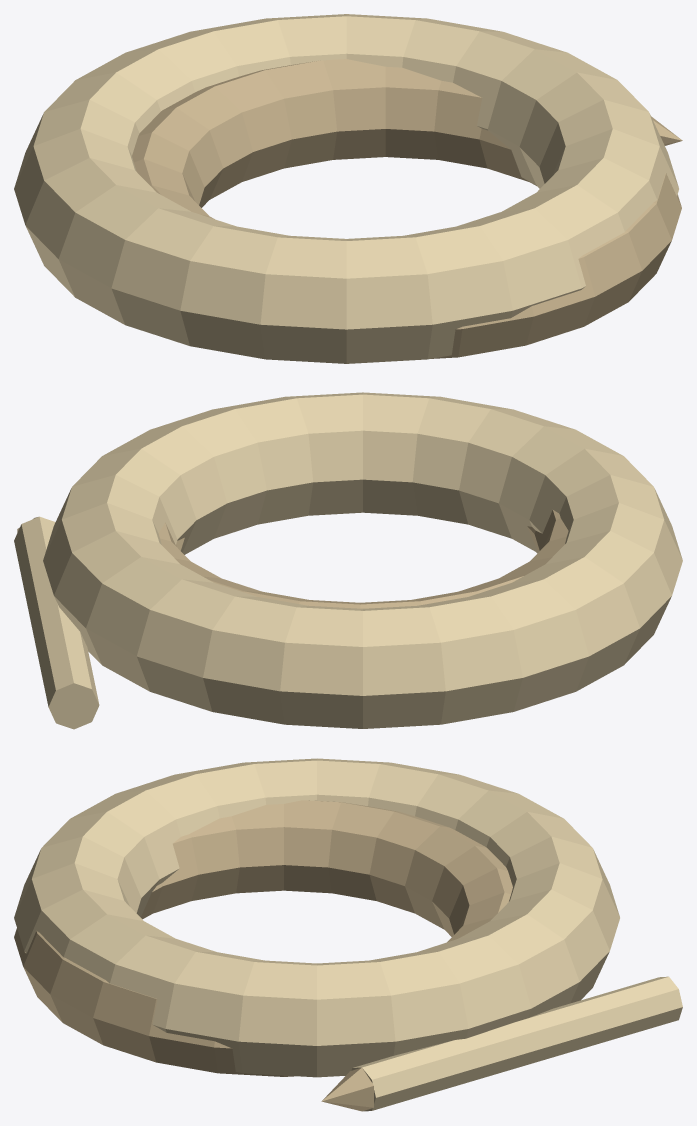
The model's file is 16-Crafting_cuerda_enrollada.glb.
The picture shows the model from 3 angles, top to bottom: view 1: azimuth 30°, elevation 25°; view 2: azimuth 150°, elevation 25°; view 3: azimuth 270°, elevation 25°; orthographic projection. The views are drawn at different scales.
Parts seen in each view (by area): view 1: SM_Cuerda_M_Cuerda_Claro, SM_Cuerda_M_Cuerda_Oscuro; view 2: SM_Cuerda_M_Cuerda_Claro, SM_Cuerda_M_Cuerda_Oscuro; view 3: SM_Cuerda_M_Cuerda_Claro, SM_Cuerda_M_Cuerda_Oscuro.
Boxes of the visible parts, x1,y1,x2,y2 form: SM_Cuerda_M_Cuerda_Claro: [14, 14, 678, 363]; SM_Cuerda_M_Cuerda_Oscuro: [132, 59, 682, 358]; SM_Cuerda_M_Cuerda_Claro: [14, 392, 682, 729]; SM_Cuerda_M_Cuerda_Oscuro: [17, 510, 568, 608]; SM_Cuerda_M_Cuerda_Claro: [14, 758, 682, 1111]; SM_Cuerda_M_Cuerda_Oscuro: [14, 800, 512, 1111].
Size of the model in its own units: 0.5983 by 0.11 by 0.6069.
